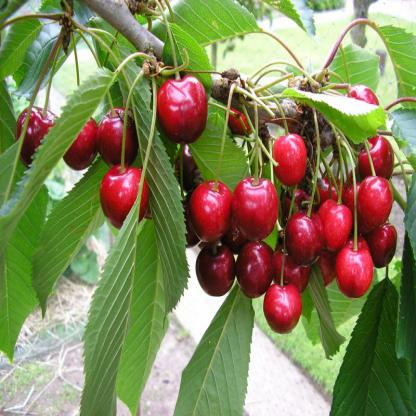cherry leaf: (1, 64, 133, 268), (71, 181, 162, 415), (166, 259, 289, 415), (333, 258, 410, 415), (277, 71, 402, 155), (160, 21, 219, 85)
